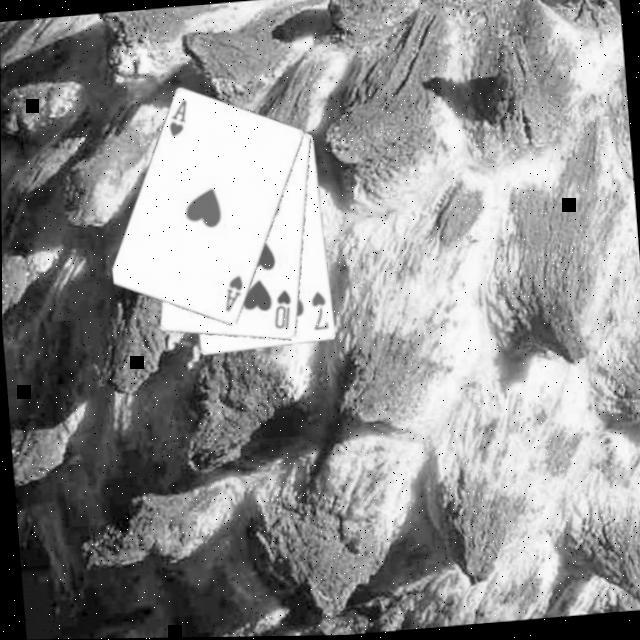10H: (268, 286, 294, 333)
7H: (306, 288, 330, 333)
AH: (218, 271, 246, 315), (162, 96, 190, 140)
